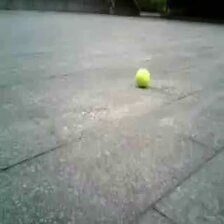tennis: (135, 70, 150, 86)
